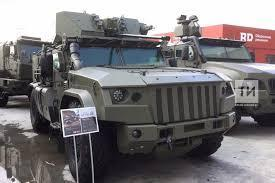armored_car: (22, 18, 242, 169)
